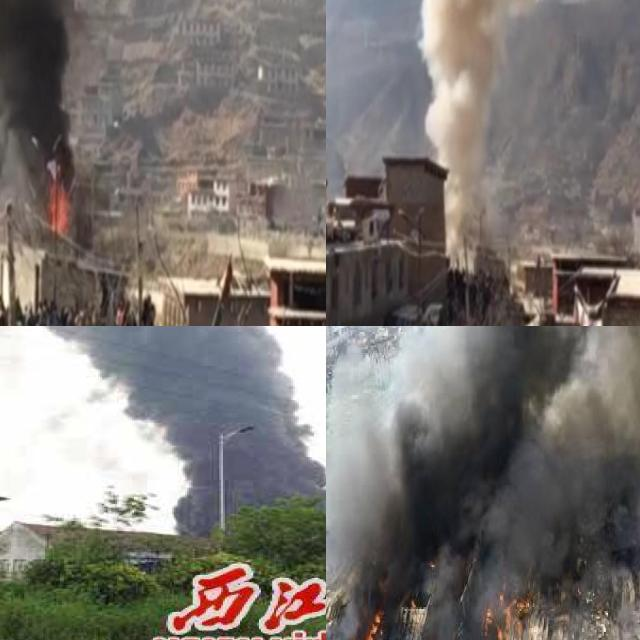fire: (478, 585, 529, 640), (47, 180, 71, 233), (347, 605, 381, 640)
smoke: (326, 326, 640, 640), (0, 326, 326, 531), (411, 0, 533, 269), (0, 0, 89, 217)
